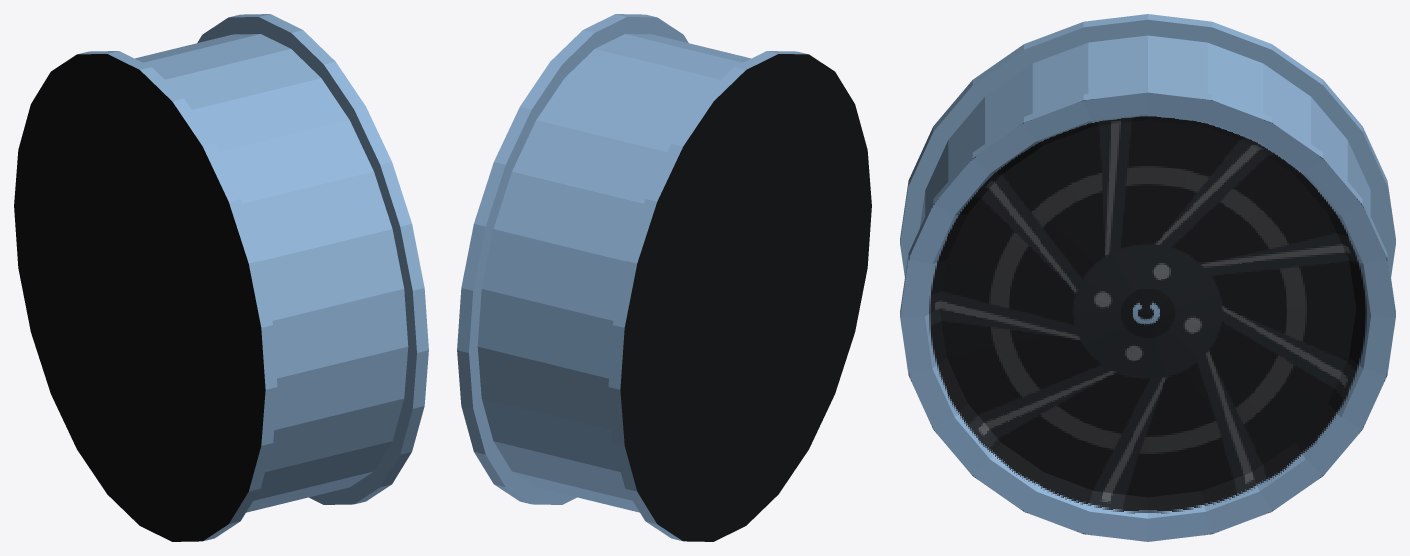
Rendered from catavento_pas_18.glb.
3 views of the same model, side by side, from view 1: azimuth 30°, elevation 25°; view 2: azimuth 150°, elevation 25°; view 3: azimuth 270°, elevation 25° (orthographic).
Parts seen in each view (by area): view 1: catavento_pas_18; view 2: catavento_pas_18; view 3: catavento_pas_18.
Boxes of the visible parts, <box> form: catavento_pas_18: <box>14,14,428,541</box>; catavento_pas_18: <box>457,14,871,541</box>; catavento_pas_18: <box>900,14,1395,541</box>.
Bounding box in the file's own units: 0.192 × 0.5121 × 0.5121.
Materials: 1 (1 with a texture image).
